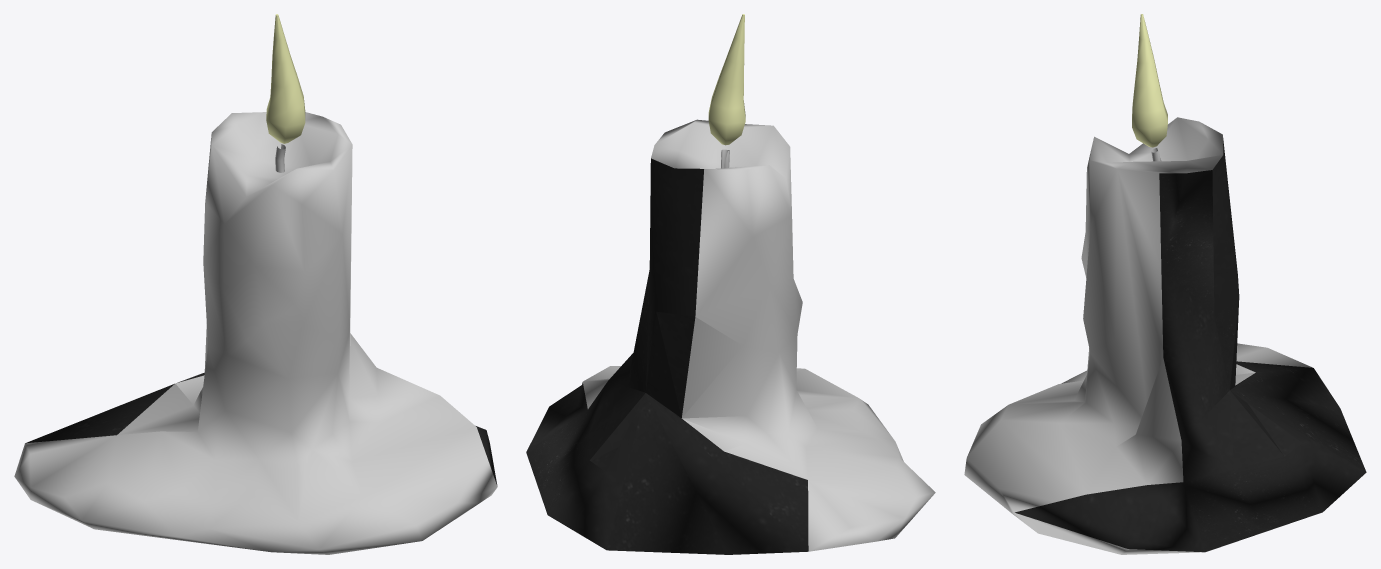
Rendered from candlesolo.fbx.
The picture shows the model from 3 angles, left to right: view 1: azimuth 30°, elevation 25°; view 2: azimuth 150°, elevation 25°; view 3: azimuth 270°, elevation 25°; orthographic projection. The views are drawn at different scales.
Parts seen in each view (by area): view 1: Object003, candleflame001; view 2: Object003, candleflame001; view 3: Object003, candleflame001.
Boxes of the visible parts, x1,y1,x2,y2 form: Object003: (14,112,497,554); candleflame001: (266,14,305,143); Object003: (526,119,935,554); candleflame001: (708,14,745,145); Object003: (964,117,1366,554); candleflame001: (1132,14,1167,147).
Size of the model in its own units: 85.59 by 95.1 by 77.09.
